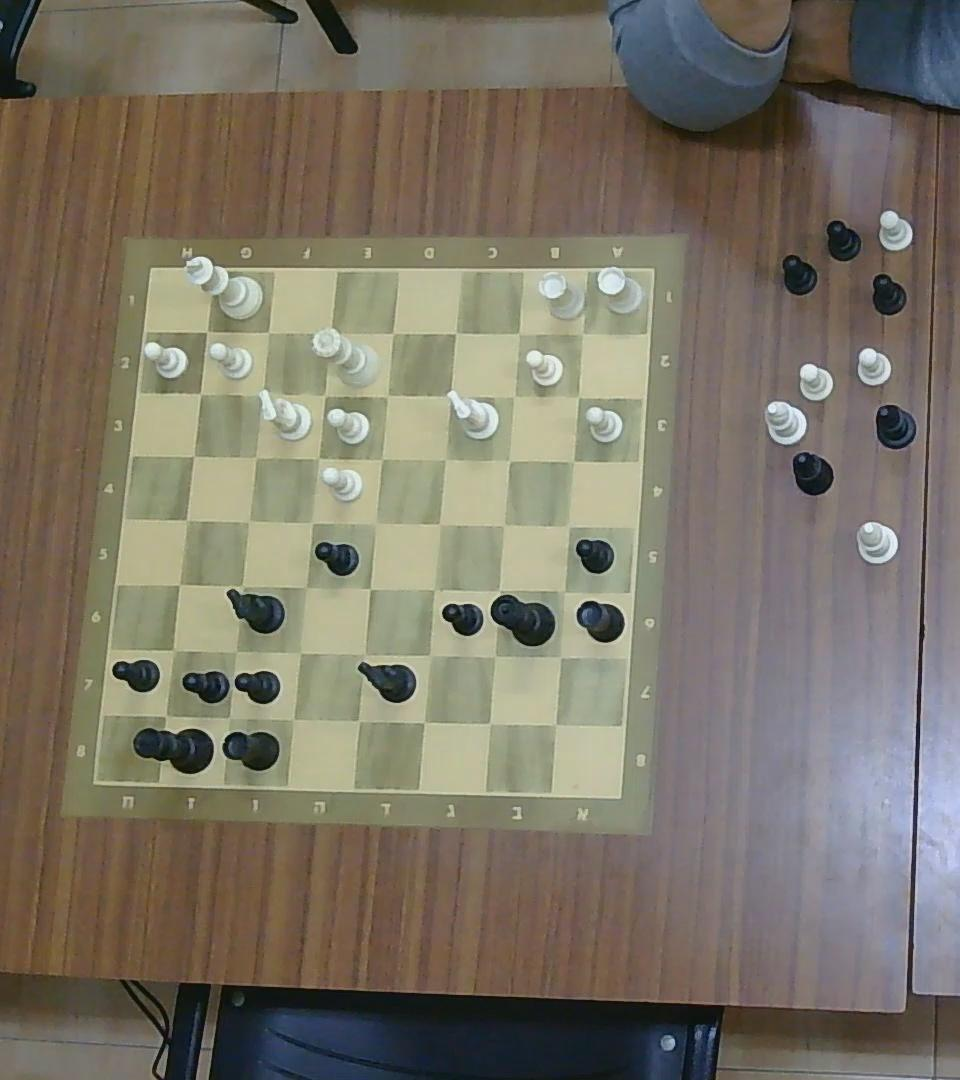xcorner: (476, 710, 503, 737), (542, 710, 569, 737), (280, 704, 305, 733), (215, 703, 241, 730), (153, 702, 179, 728), (346, 707, 370, 734), (549, 643, 573, 669), (412, 709, 436, 734), (167, 571, 191, 596), (161, 637, 185, 662), (223, 638, 246, 664), (229, 573, 253, 597), (482, 642, 505, 667), (288, 640, 311, 665), (174, 507, 197, 532), (236, 507, 259, 532), (491, 512, 514, 536), (427, 512, 450, 536), (419, 644, 442, 668), (352, 641, 376, 664), (318, 320, 341, 344), (364, 511, 387, 534), (557, 513, 580, 536), (300, 511, 323, 534), (552, 580, 575, 603), (421, 577, 444, 600), (487, 577, 510, 600), (196, 318, 218, 342), (562, 448, 584, 472), (444, 320, 466, 344), (251, 381, 273, 405), (433, 447, 455, 470), (359, 577, 381, 600), (566, 385, 589, 407), (306, 446, 329, 468), (438, 383, 460, 406), (381, 320, 402, 344), (182, 444, 204, 466), (245, 446, 267, 468), (258, 319, 279, 342), (498, 448, 518, 472), (295, 575, 315, 599), (189, 382, 210, 404), (509, 321, 530, 343), (371, 448, 392, 469), (376, 385, 396, 407), (503, 386, 524, 406), (572, 323, 592, 344), (315, 384, 334, 405)
